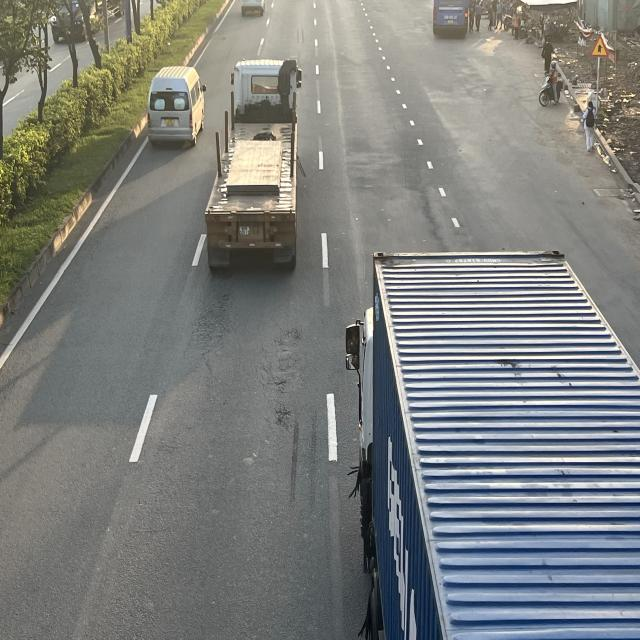container: (358, 251, 639, 640), (208, 61, 305, 274)
van: (151, 64, 209, 144)
